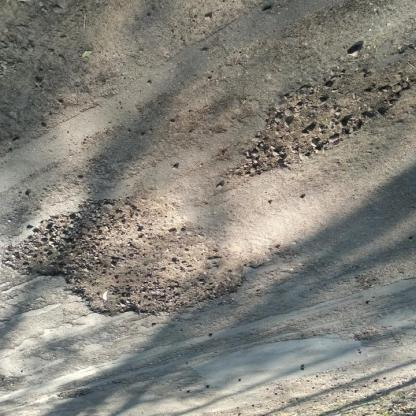pothole: (5, 196, 260, 322), (229, 66, 416, 180)
